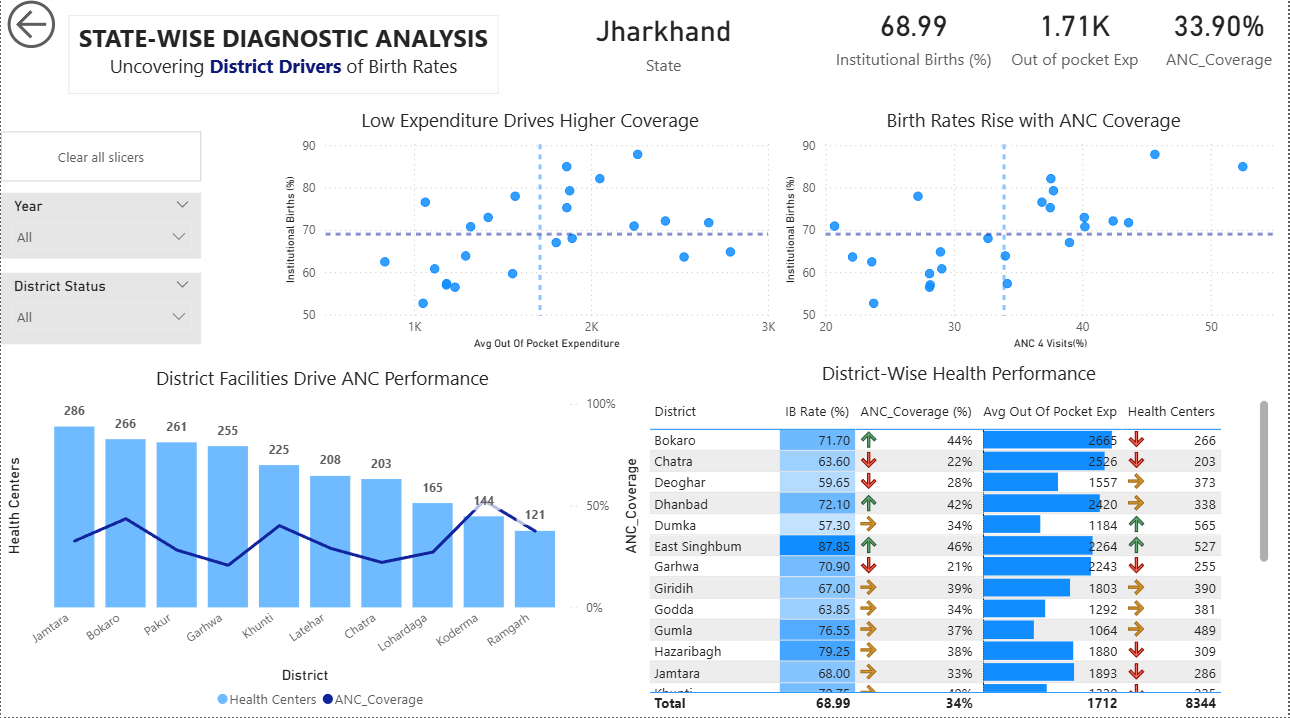

This screenshot's page, from the dashboard's own definition file:
{"tool":"powerbi","page":{"name":"State-wise Analysis","canvas":[1280,720],"ordinal":1},"visuals":[{"type":"scatterChart","title":"Low Expenditure Drives Higher Coverage","fields":{"Y":["Avg(NFHS.Institutional Births (%))"],"X":["Avg(NFHS.Avg Out Of Pocket Expenditure For Each Delivery In PHF (INR))"],"Category":["NFHS.District"]},"box":[277.2,112.5,498.1,247],"z":0},{"type":"scatterChart","title":"Birth Rates Rise with ANC Coverage","fields":{"Y":["Avg(NFHS.Institutional Births (%))"],"Category":["NFHS.District"],"X":["Avg(NFHS.Mothers Who Had At Least 4 Antenatal Care Visits (%))"]},"box":[775.3,112.5,505,247],"z":1000},{"type":"card","fields":{"Values":["Avg(NFHS.Institutional Births (%))"]},"box":[824.7,1.4,167.4,78.2],"z":2000},{"type":"card","fields":{"Values":["Avg(NFHS.Avg Out Of Pocket Expenditure For Each Delivery In PHF (INR))"]},"box":[992.1,1.4,152.3,78.2],"z":3000},{"type":"card","fields":{"Values":["All Measures.ANC_Coverage"]},"box":[1144.4,1.4,135.8,78.2],"z":4000},{"type":"lineClusteredColumnComboChart","title":"District Facilities Drive ANC Performance","fields":{"Category":["RHS.District"],"Y2":["All Measures.ANC_Coverage"],"Y":["All Measures.Health Centers"]},"box":[0,369.1,639.5,351.3],"z":5000},{"type":"tableEx","fields":{"Values":["RHS.District","Avg(NFHS.Institutional Births (%))","All Measures.ANC_Coverage","Avg(NFHS.Avg Out Of Pocket Expenditure For Each Delivery In PHF (INR))","All Measures.Health Centers"]},"box":[639.5,399.3,627.1,321.1],"z":6000},{"type":"actionButton","box":[0,0,101.5,60.4],"z":7000},{"type":"textbox","box":[804.1,359.5,299.1,39.8],"z":8000},{"type":"slicer","fields":{"Values":["NFHS.District Status"]},"box":[0,278,199.6,71.3],"z":9000},{"type":"slicer","fields":{"Values":["Year.Year"]},"box":[0,198.1,199.6,65.6],"z":10000},{"type":"textbox","box":[67.2,20.6,428.1,78.2],"z":11000},{"type":"card","fields":{"Values":["Min(RHS.State)"]},"box":[495.4,1.4,329.3,89.2],"z":12000},{"type":"actionButton","box":[0,136.8,199.6,49.9],"z":13000}]}

Visuals, with their boxes in screenshot pixels (x1, y1, x2, y2), scaled from the page's 1280x720 canvas onto the 1290x718 screenshot:
"Low Expenditure Drives Higher Coverage" scatterChart: 279, 112, 781, 359
"Birth Rates Rise with ANC Coverage" scatterChart: 781, 112, 1289, 359
card - Avg(NFHS.Institutional Births (%)): 831, 1, 1000, 79
card - Avg(NFHS.Avg Out Of Pocket Expenditure For Each Delivery In PHF (INR)): 1000, 1, 1153, 79
card - All Measures.ANC_Coverage: 1153, 1, 1289, 79
"District Facilities Drive ANC Performance" lineClusteredColumnComboChart: 0, 368, 644, 717
tableEx - RHS.District x Avg(NFHS.Institutional Births (%)): 644, 398, 1276, 717
actionButton: 0, 0, 102, 60
textbox: 810, 359, 1112, 398
slicer - NFHS.District Status: 0, 277, 201, 348
slicer - Year.Year: 0, 198, 201, 263
textbox: 68, 21, 499, 99
card - Min(RHS.State): 499, 1, 831, 90
actionButton: 0, 136, 201, 186
